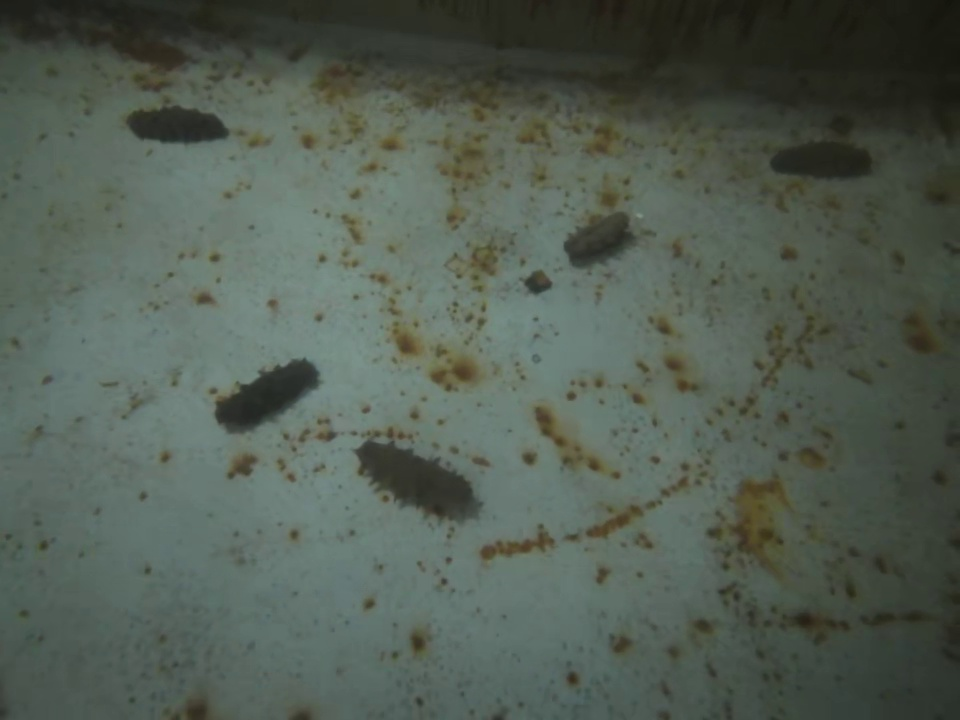seacucumber: (352, 437, 484, 522), (212, 355, 323, 434), (767, 140, 878, 183), (126, 103, 236, 145), (558, 210, 638, 264)
